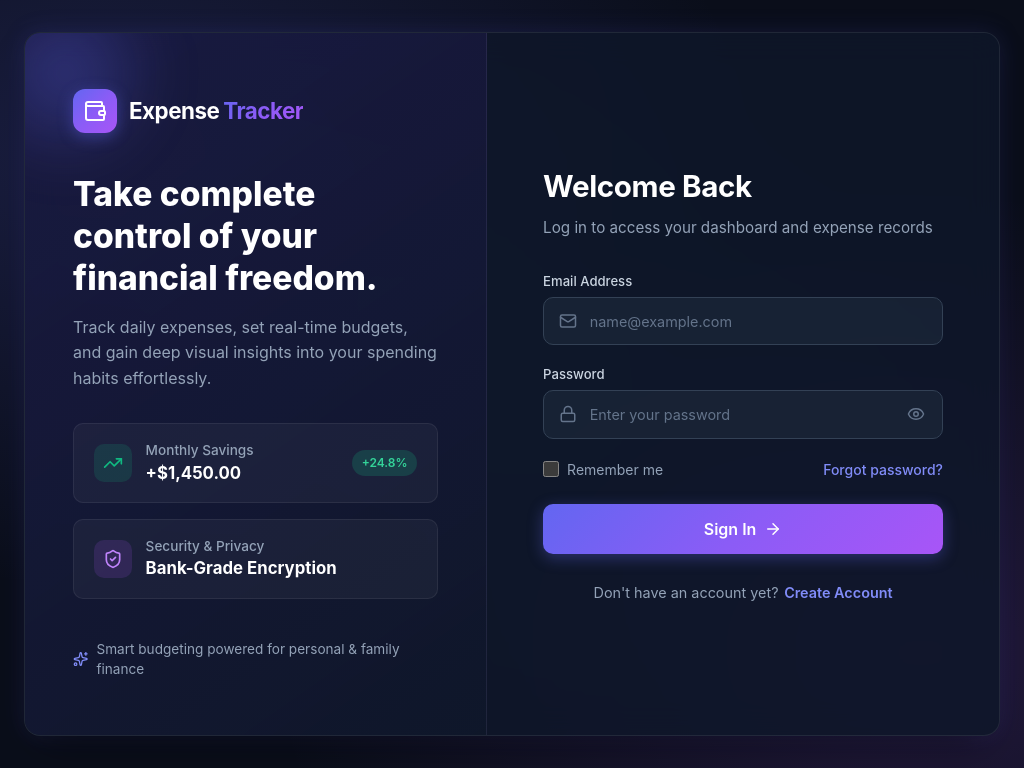
Login Component › displays error when entering an invalid email format
Type "not-an-email" into the field labelled "Email Address".
click(743, 321); type("not-an-email")  # box [543,297,943,345]
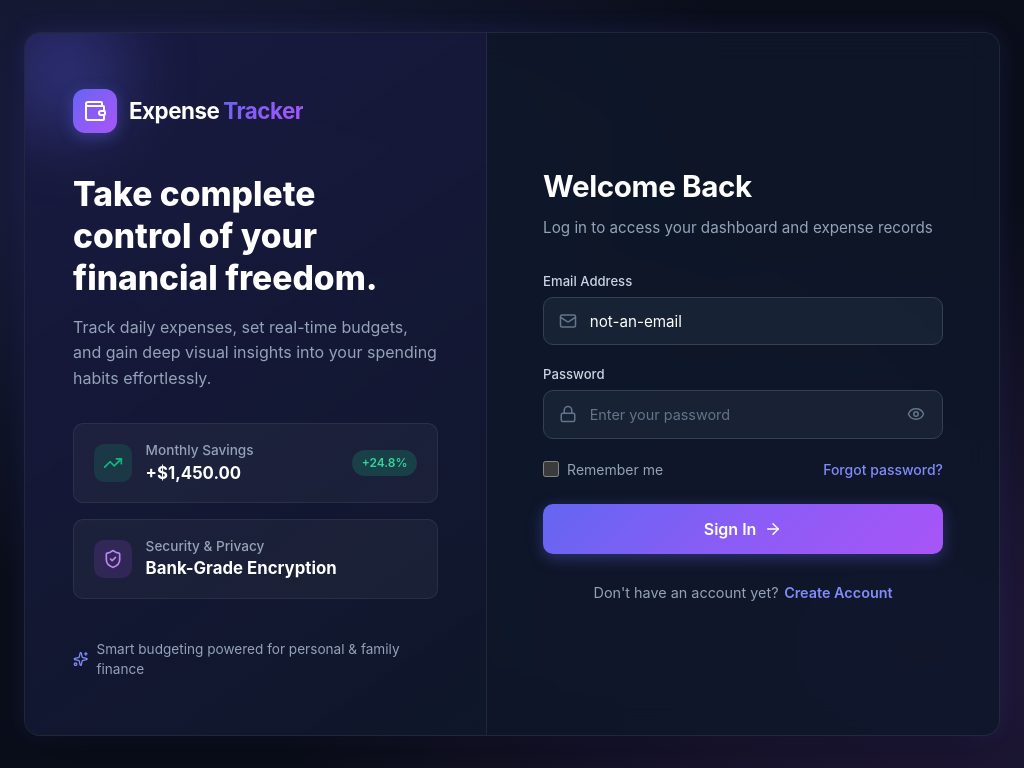
Click the button "Sign In".
click(743, 529)  # box [543,504,943,554]
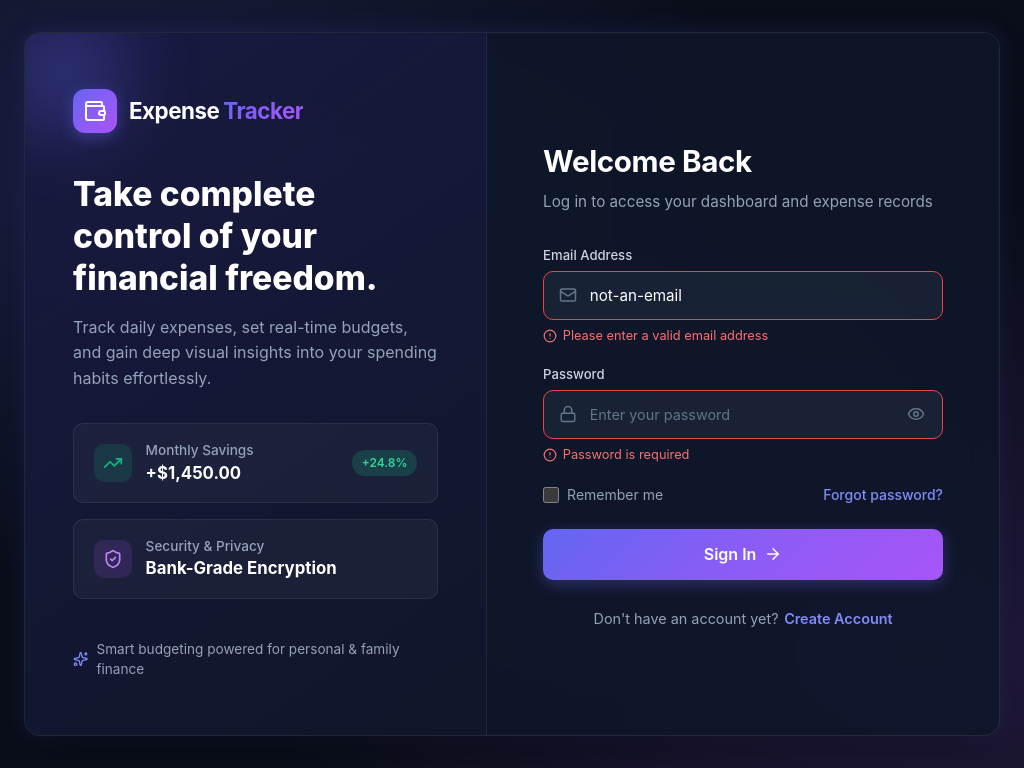
Now the text "Please enter a valid email address" is shown, box [563,326,768,345]
